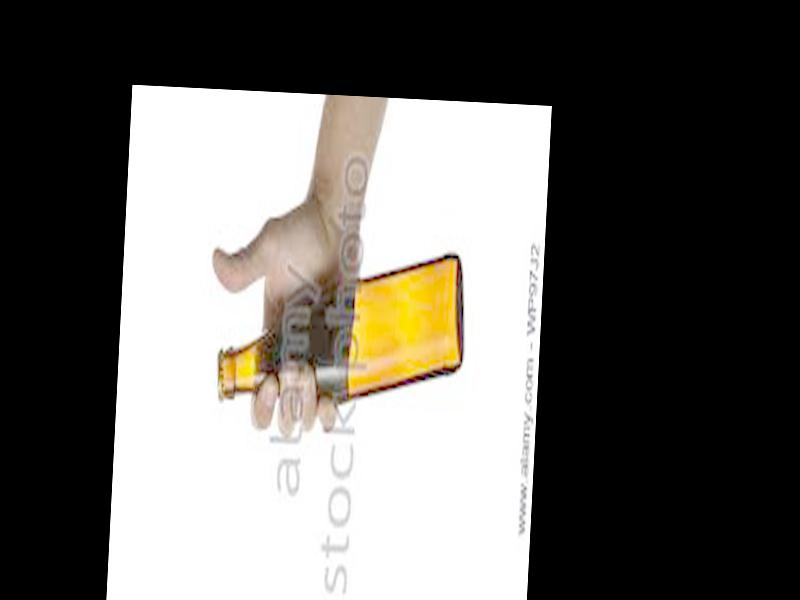Beer: (218, 239, 467, 417)
